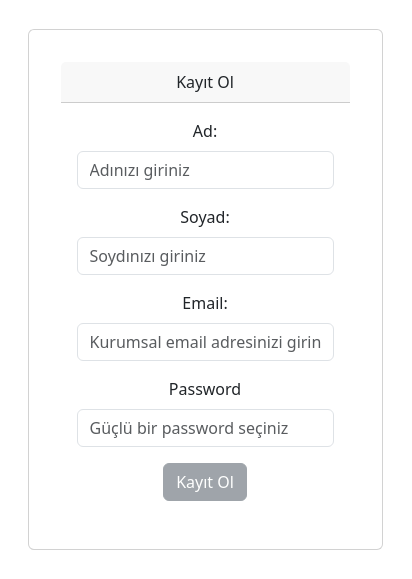
Test case: Register Page › Error Messeges › surname input throws error for 2 chars
In the field with test id "soyad-input": point(206, 256) [77,237,334,275], type "ka"
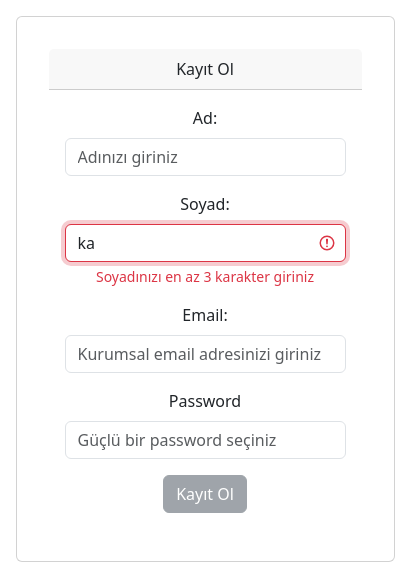
Result: the text "Soyadınızı en az 3 karakter giriniz" is shown at [96,267,314,286]
